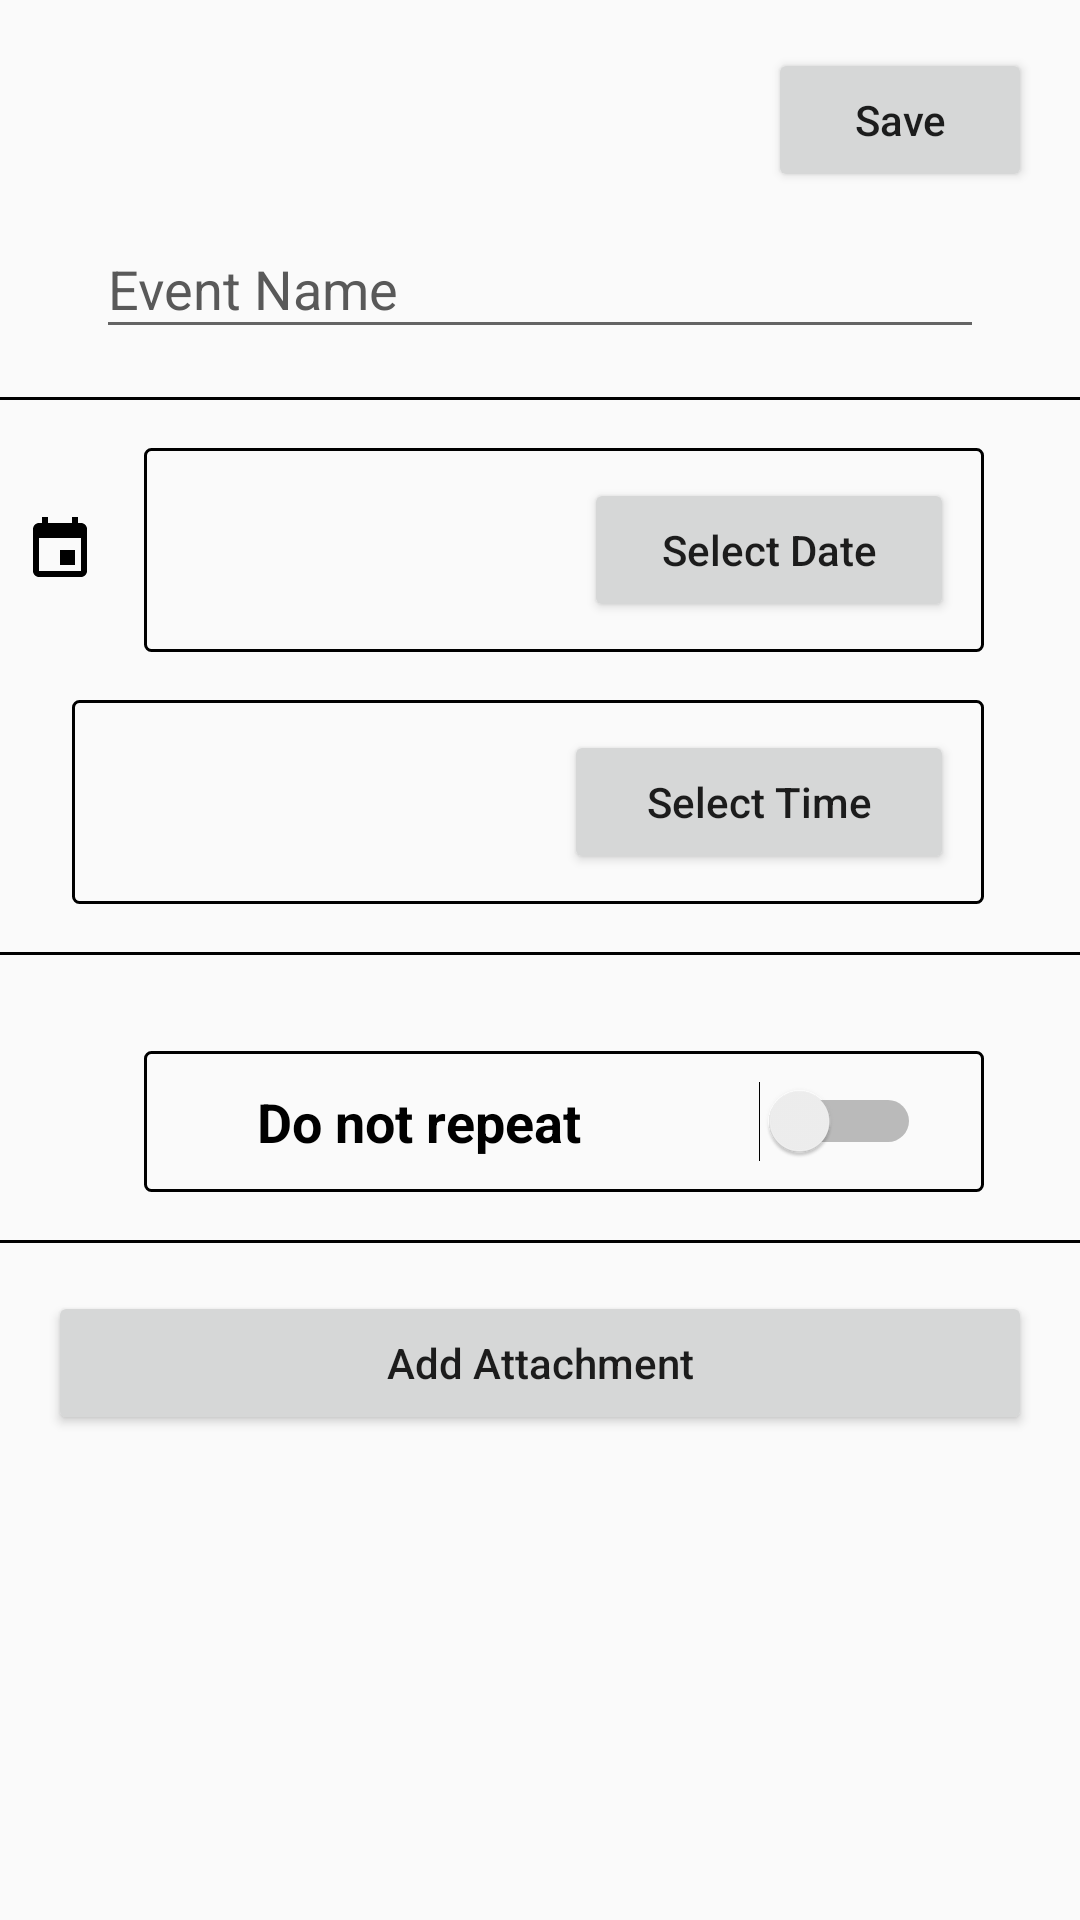

Screen size 1080×1920. Icon name, then its box in pixels as (x1, y1, x2, y2):
calendar: (33, 517, 87, 577)
